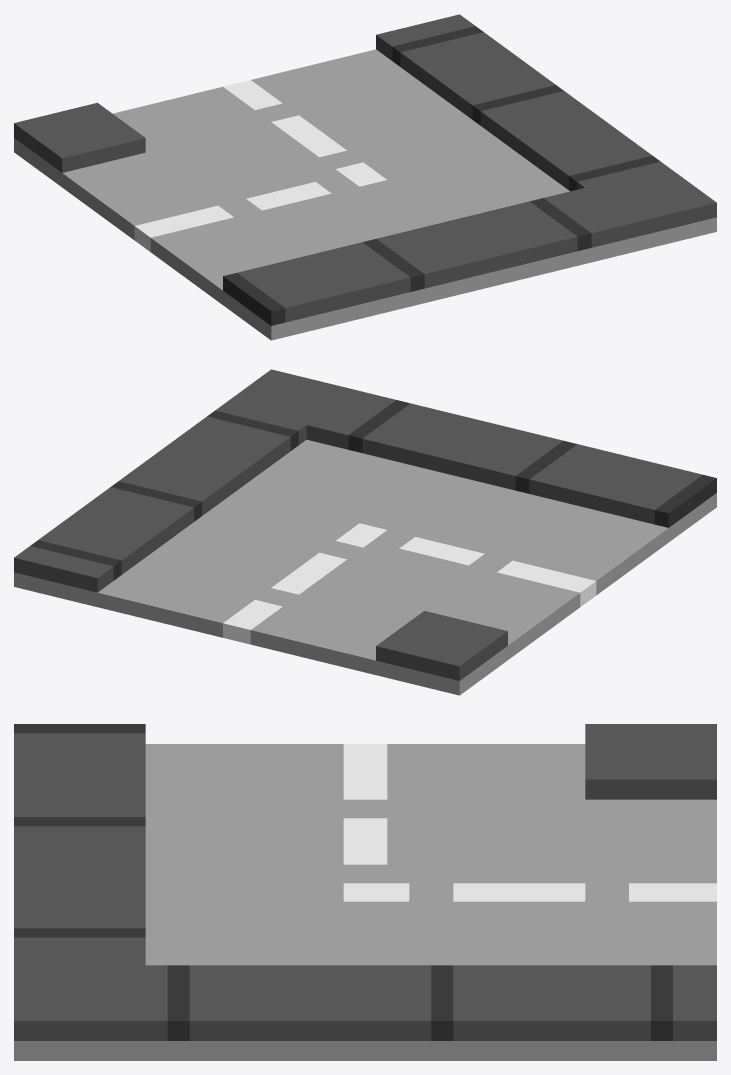
Rendered from town-5.obj.
3 renders of one model, top to bottom at view 1: azimuth 30°, elevation 25°; view 2: azimuth 150°, elevation 25°; view 3: azimuth 270°, elevation 25°, orthographic. The views are drawn at different scales.
Bounding box in the file's own units: 3.2 × 0.2 × 3.2.
1 material, 1 textured.
